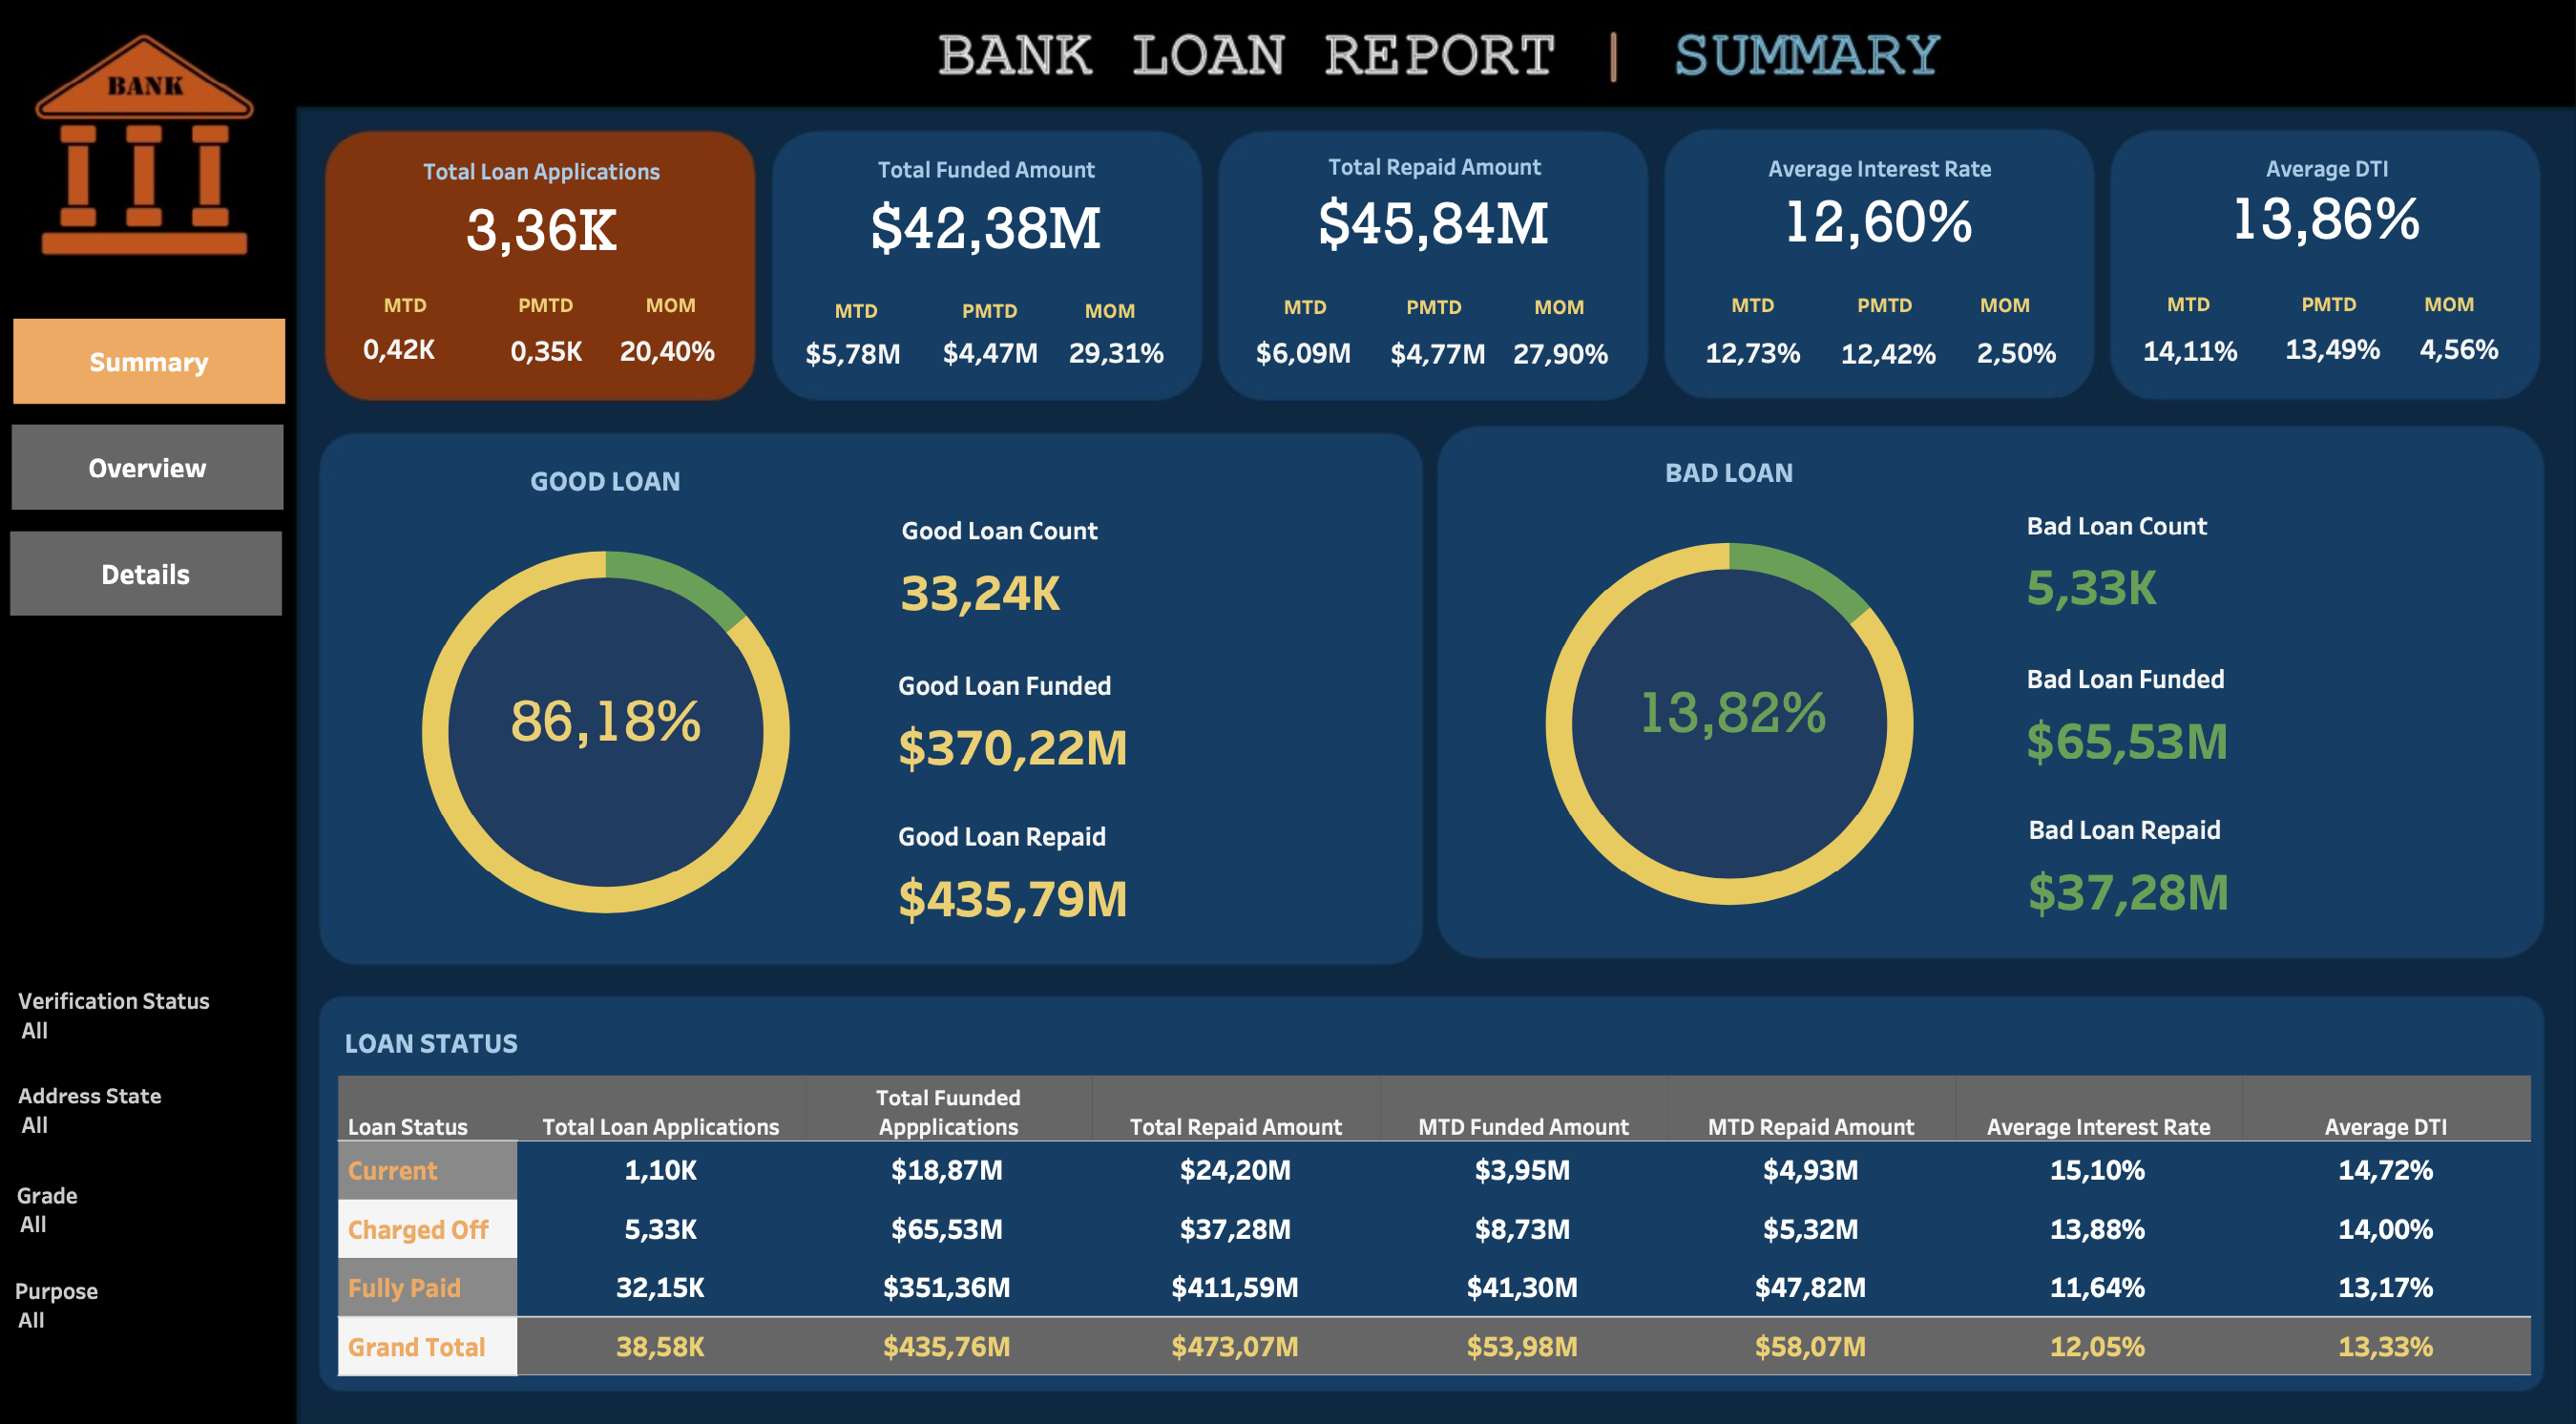

Layout of this report page (visuals, bound fields, positions):
{"tool":"tableau","page":{"name":"SUMMARY","canvas":[1600,900],"ordinal":2},"visuals":[{"type":"image","param":"/Users/arafathjazeeb/Library/CloudStorage/OneDrive-UniversityofPisa/Data Analyst","box":[8,8,1584,884]},{"type":"worksheet","title":"TRA","mark":"Automatic","box":[770,100,238,81]},{"type":"worksheet","title":"AIR","mark":"Automatic","box":[1037,101,241,77]},{"type":"worksheet","title":"DTI","mark":"Automatic","box":[1307,101,241,72]},{"type":"worksheet","title":"TFA","mark":"Automatic","box":[498,102,241,83]},{"type":"worksheet","title":"TLA","mark":"Automatic","box":[229,103,242,82]},{"type":"text","box":[1328,184,33,30]},{"type":"text","box":[1409,184,39,30]},{"type":"text","box":[1483,184,39,30]},{"type":"text","box":[252,185,33,30]},{"type":"text","box":[333,185,39,30]},{"type":"text","box":[410,185,39,30]},{"type":"text","box":[1065,185,33,30]},{"type":"text","box":[1141,185,39,30]},{"type":"text","box":[1215,185,39,30]},{"type":"text","box":[795,186,33,30]},{"type":"text","box":[869,186,39,30]},{"type":"text","box":[946,186,39,30]},{"type":"text","box":[524,188,33,30]},{"type":"text","box":[601,188,39,30]},{"type":"text","box":[675,188,39,30]},{"type":"worksheet","title":"MTD_AIR","mark":"Automatic","box":[1043,203,77,53]},{"type":"worksheet","title":"PMTD_TLA","mark":"Automatic","box":[310,207,86,43]},{"type":"worksheet","title":"MTD_TFA","mark":"Automatic","box":[501,207,75,46]},{"type":"worksheet","title":"MTD_TRA","mark":"Automatic","box":[768,208,84,43]},{"type":"worksheet","title":"PMTD_AIR","mark":"Automatic","box":[1121,208,84,44]},{"type":"worksheet","title":"PMTD_DTI","mark":"Automatic","box":[1390,208,82,39]},{"type":"dashboard-object","box":[31,209,164,52]},{"type":"worksheet","title":"MOM_TFA","mark":"Automatic","box":[654,209,87,41]},{"type":"worksheet","title":"MTD_DTI","mark":"Automatic","box":[1309,209,73,39]},{"type":"worksheet","title":"PMTD_TFA","mark":"Automatic","box":[581,210,81,39]},{"type":"worksheet","title":"MOM_DTI","mark":"Automatic","box":[1472,210,70,34]},{"type":"worksheet","title":"MTD_TLA","mark":"Automatic","box":[229,211,71,33]},{"type":"worksheet","title":"PMTD_TRA","mark":"Automatic","box":[853,211,76,38]},{"type":"worksheet","title":"MOM_TRA","mark":"Automatic","box":[926,211,79,38]},{"type":"worksheet","title":"MOM_AIR","mark":"Automatic","box":[1197,211,86,36]},{"type":"worksheet","title":"MOM_TLA","mark":"Automatic","box":[392,212,68,32]},{"type":"dashboard-object","box":[30,274,164,52]},{"type":"worksheet","title":"Bad Loan Issued","mark":"Pie","rows":["Calculation_5259571078684729375","Calculation_5259571078684729375"],"box":[911,286,311,306]},{"type":"worksheet","title":"Good Loan Issued","mark":"Pie","rows":["Calculation_5259571078684729375","Calculation_5259571078684729375"],"box":[233,291,311,306]},{"type":"worksheet","title":"Bad Loan Count","mark":"Automatic","box":[1238,315,311,80]},{"type":"worksheet","title":"Good Loan Count","mark":"Automatic","box":[559,318,311,80]},{"type":"dashboard-object","box":[29,339,164,52]},{"type":"worksheet","title":"Bad Loan Funded","mark":"Automatic","box":[1238,409,311,80]},{"type":"worksheet","title":"Good Loan Funded","mark":"Automatic","box":[557,413,311,80]},{"type":"worksheet","title":"Bad Loan %","mark":"Automatic","box":[982,422,173,69]},{"type":"worksheet","title":"Good Loan %","mark":"Automatic","box":[312,428,155,67]},{"type":"worksheet","title":"Bad Loan Repaid","mark":"Automatic","box":[1239,502,311,80]},{"type":"worksheet","title":"Good Loan Repaid","mark":"Automatic","box":[557,506,311,80]},{"type":"filter","title":"Good Loan Issued","param":"[federated.19laxnm011tjax19or1he1sgg5cj].[none:verification_status:nk]","box":[34,617,160,58]},{"type":"worksheet","title":"LOAN STATUS","mark":"Automatic","rows":["loan_status"],"box":[227,636,1324,222]},{"type":"filter","title":"Good Loan Issued","param":"[federated.19laxnm011tjax19or1he1sgg5cj].[none:address_state:nk]","box":[34,675,160,54]},{"type":"filter","title":"Good Loan Issued","param":"[federated.19laxnm011tjax19or1he1sgg5cj].[none:grade:nk]","box":[33,736,160,49]},{"type":"filter","title":"Good Loan Issued","param":"[federated.19laxnm011tjax19or1he1sgg5cj].[none:purpose:nk]","box":[32,795,160,60]}]}

Visuals, with their boxes in screenshot pixels (x1, y1, x2, y2), scaled from the page's 1600x900 canvas onto the 2576x1424 screenshot:
image: {"x1": 12, "y1": 12, "x2": 2564, "y2": 1412}
"TRA" worksheet: {"x1": 1240, "y1": 158, "x2": 1623, "y2": 286}
"AIR" worksheet: {"x1": 1669, "y1": 159, "x2": 2058, "y2": 282}
"DTI" worksheet: {"x1": 2105, "y1": 159, "x2": 2492, "y2": 274}
"TFA" worksheet: {"x1": 802, "y1": 161, "x2": 1190, "y2": 293}
"TLA" worksheet: {"x1": 368, "y1": 163, "x2": 759, "y2": 293}
text: {"x1": 2138, "y1": 291, "x2": 2191, "y2": 339}
text: {"x1": 2269, "y1": 291, "x2": 2332, "y2": 339}
text: {"x1": 2388, "y1": 291, "x2": 2450, "y2": 339}
text: {"x1": 406, "y1": 293, "x2": 459, "y2": 340}
text: {"x1": 536, "y1": 293, "x2": 599, "y2": 340}
text: {"x1": 660, "y1": 293, "x2": 723, "y2": 340}
text: {"x1": 1715, "y1": 293, "x2": 1768, "y2": 340}
text: {"x1": 1837, "y1": 293, "x2": 1900, "y2": 340}
text: {"x1": 1957, "y1": 293, "x2": 2019, "y2": 340}
text: {"x1": 1280, "y1": 294, "x2": 1333, "y2": 342}
text: {"x1": 1399, "y1": 294, "x2": 1462, "y2": 342}
text: {"x1": 1523, "y1": 294, "x2": 1586, "y2": 342}
text: {"x1": 844, "y1": 298, "x2": 897, "y2": 345}
text: {"x1": 968, "y1": 298, "x2": 1031, "y2": 345}
text: {"x1": 1087, "y1": 298, "x2": 1149, "y2": 345}
"MTD_AIR" worksheet: {"x1": 1679, "y1": 322, "x2": 1803, "y2": 405}
"PMTD_TLA" worksheet: {"x1": 499, "y1": 327, "x2": 638, "y2": 395}
"MTD_TFA" worksheet: {"x1": 806, "y1": 327, "x2": 928, "y2": 400}
"MTD_TRA" worksheet: {"x1": 1237, "y1": 329, "x2": 1372, "y2": 397}
"PMTD_AIR" worksheet: {"x1": 1805, "y1": 329, "x2": 1940, "y2": 399}
"PMTD_DTI" worksheet: {"x1": 2238, "y1": 329, "x2": 2370, "y2": 390}
dashboard-object: {"x1": 50, "y1": 330, "x2": 314, "y2": 413}
"MOM_TFA" worksheet: {"x1": 1053, "y1": 330, "x2": 1193, "y2": 395}
"MTD_DTI" worksheet: {"x1": 2107, "y1": 330, "x2": 2225, "y2": 392}
"PMTD_TFA" worksheet: {"x1": 935, "y1": 332, "x2": 1066, "y2": 394}
"MOM_DTI" worksheet: {"x1": 2370, "y1": 332, "x2": 2482, "y2": 386}
"MTD_TLA" worksheet: {"x1": 368, "y1": 334, "x2": 483, "y2": 386}
"PMTD_TRA" worksheet: {"x1": 1373, "y1": 334, "x2": 1496, "y2": 394}
"MOM_TRA" worksheet: {"x1": 1491, "y1": 334, "x2": 1618, "y2": 394}
"MOM_AIR" worksheet: {"x1": 1927, "y1": 334, "x2": 2065, "y2": 390}
"MOM_TLA" worksheet: {"x1": 631, "y1": 335, "x2": 741, "y2": 386}
dashboard-object: {"x1": 49, "y1": 433, "x2": 312, "y2": 515}
"Bad Loan Issued" worksheet (Pie marks): {"x1": 1467, "y1": 452, "x2": 1967, "y2": 936}
"Good Loan Issued" worksheet (Pie marks): {"x1": 375, "y1": 460, "x2": 876, "y2": 945}
"Bad Loan Count" worksheet: {"x1": 1993, "y1": 498, "x2": 2494, "y2": 625}
"Good Loan Count" worksheet: {"x1": 900, "y1": 503, "x2": 1401, "y2": 630}
dashboard-object: {"x1": 47, "y1": 536, "x2": 311, "y2": 618}
"Bad Loan Funded" worksheet: {"x1": 1993, "y1": 647, "x2": 2494, "y2": 774}
"Good Loan Funded" worksheet: {"x1": 897, "y1": 654, "x2": 1397, "y2": 780}
"Bad Loan %" worksheet: {"x1": 1581, "y1": 668, "x2": 1859, "y2": 777}
"Good Loan %" worksheet: {"x1": 502, "y1": 678, "x2": 752, "y2": 784}
"Bad Loan Repaid" worksheet: {"x1": 1995, "y1": 794, "x2": 2496, "y2": 921}
"Good Loan Repaid" worksheet: {"x1": 897, "y1": 801, "x2": 1397, "y2": 927}
"Good Loan Issued" filter: {"x1": 54, "y1": 976, "x2": 312, "y2": 1068}
"LOAN STATUS" worksheet: {"x1": 366, "y1": 1006, "x2": 2497, "y2": 1357}
"Good Loan Issued" filter: {"x1": 54, "y1": 1068, "x2": 312, "y2": 1154}
"Good Loan Issued" filter: {"x1": 53, "y1": 1164, "x2": 311, "y2": 1242}
"Good Loan Issued" filter: {"x1": 52, "y1": 1258, "x2": 309, "y2": 1352}
